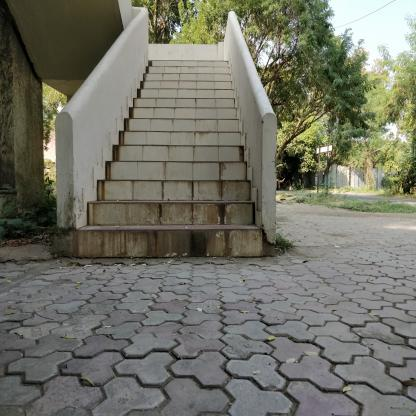stairs: (148, 59, 229, 275)
